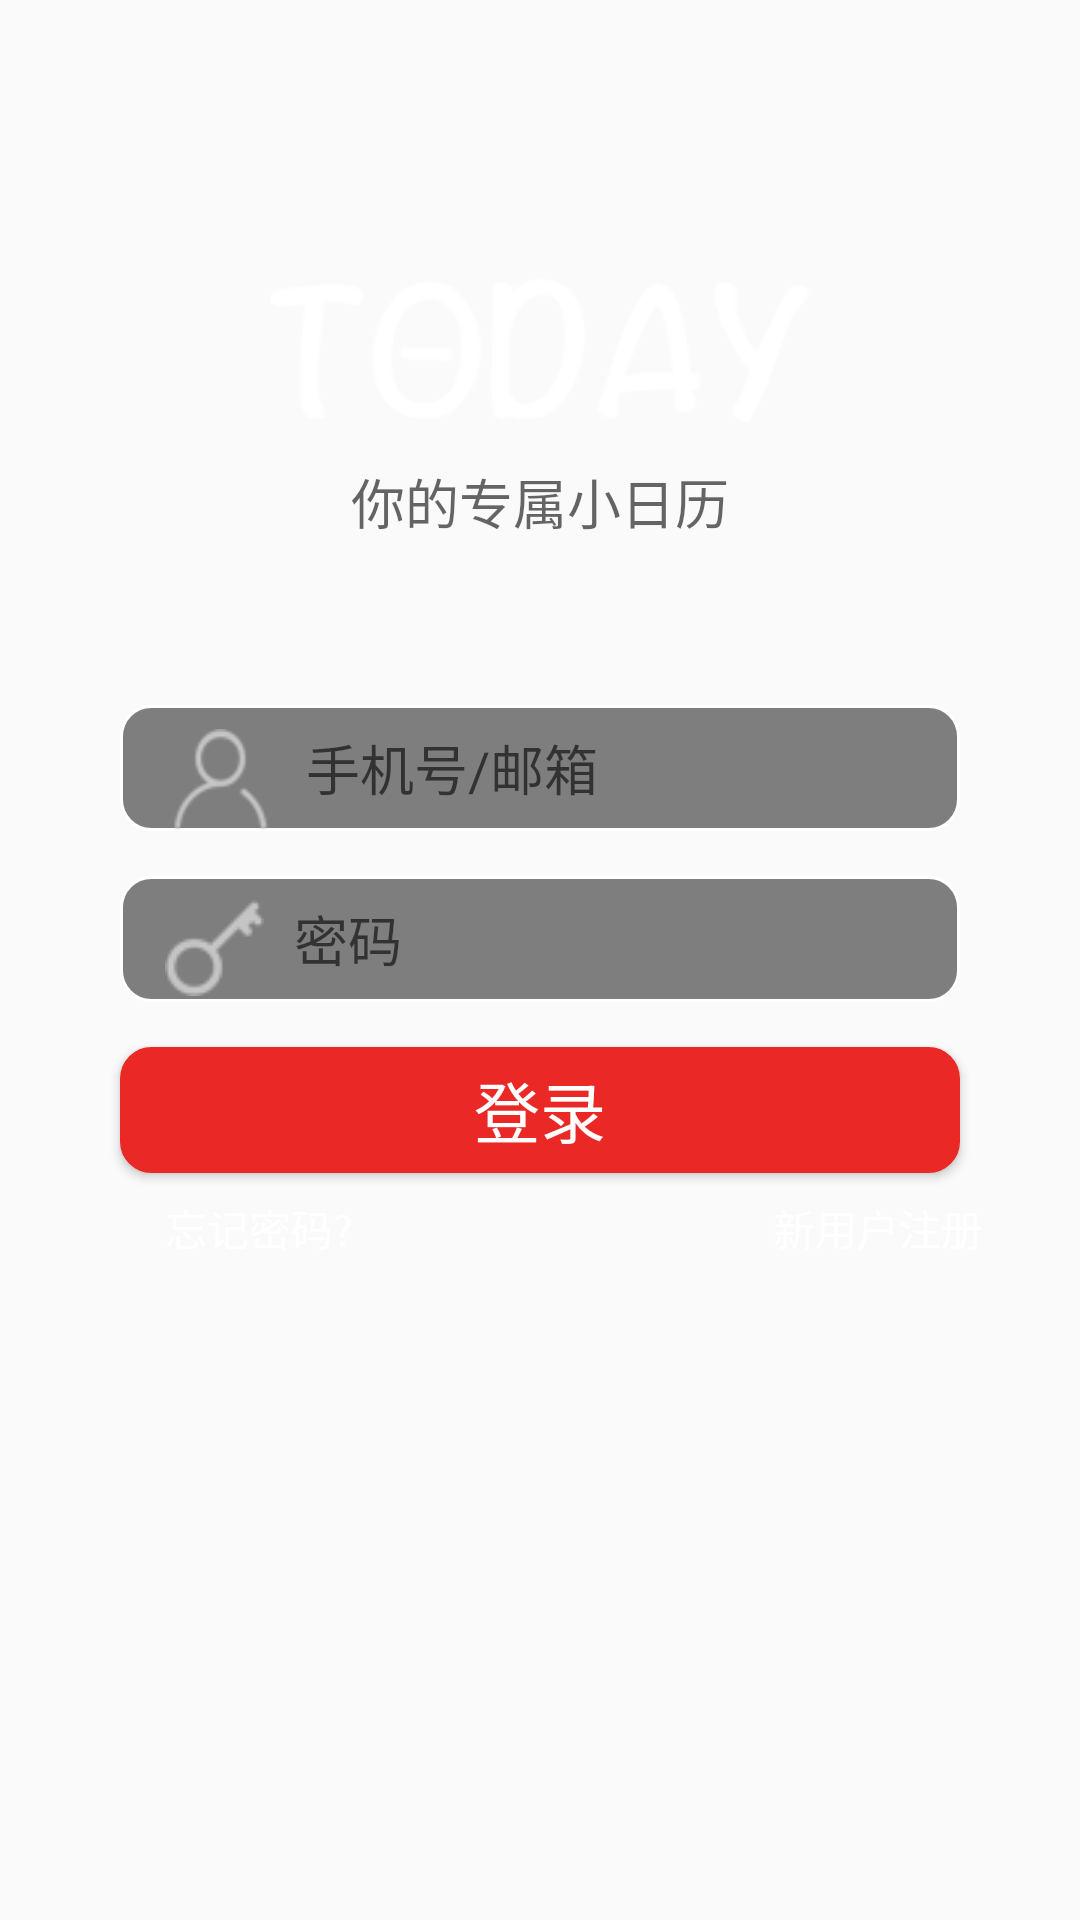

Point at icon controls on the screen. Image size 1080x1920, points as [x,y].
account password: [213,949]
account user: [220,780]
